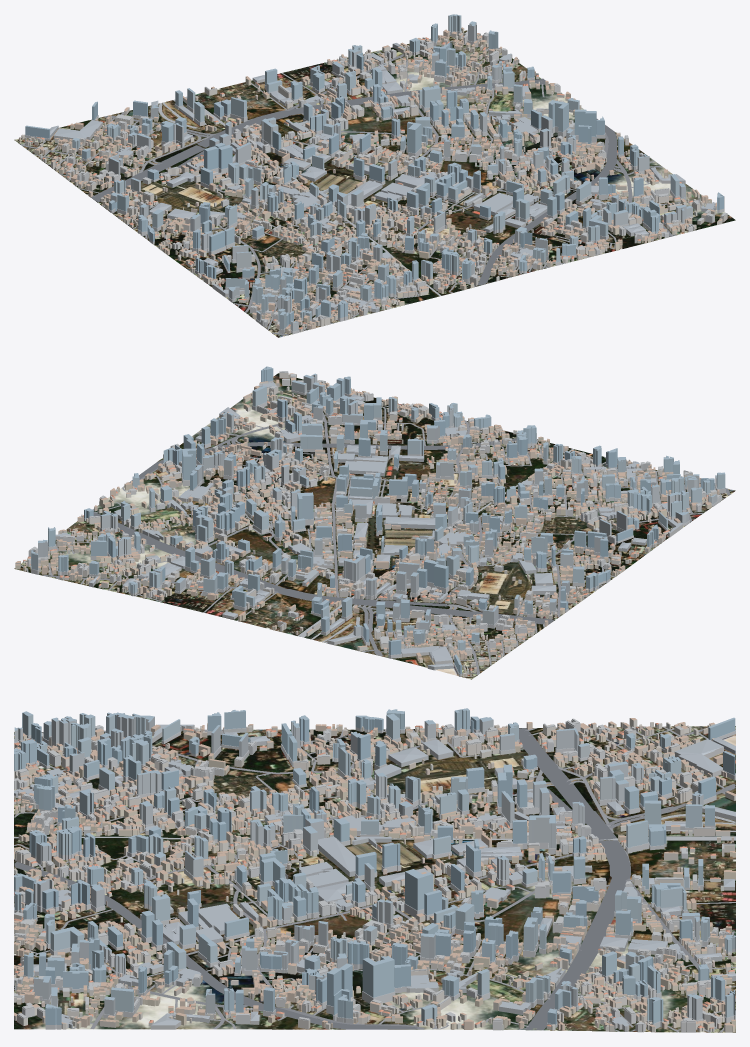
3 views of the same model, one above another, from view 1: azimuth 30°, elevation 25°; view 2: azimuth 150°, elevation 25°; view 3: azimuth 270°, elevation 25° (orthographic). The views are drawn at different scales.
Visible parts, largest first — view 1: BLDG_MODERN_TOWER, TERRAIN, BLDG_SHOPHOUSE, BLDG_APARTMENT, BLDG_INDUSTRIAL_PORT, ROAD_METRO, BLDG_TUBE_HOUSE, BLDG_VILLA; view 2: BLDG_MODERN_TOWER, TERRAIN, BLDG_SHOPHOUSE, BLDG_APARTMENT, BLDG_INDUSTRIAL_PORT, ROAD_METRO, BLDG_TUBE_HOUSE, BLDG_VILLA; view 3: BLDG_MODERN_TOWER, TERRAIN, BLDG_SHOPHOUSE, BLDG_APARTMENT, BLDG_INDUSTRIAL_PORT, ROAD_METRO, BLDG_TUBE_HOUSE, BLDG_VILLA.
Boxes of the visible parts, <box> form: BLDG_MODERN_TOWER: <box>25,14,724,334</box>; TERRAIN: <box>14,30,735,337</box>; BLDG_SHOPHOUSE: <box>25,27,722,333</box>; BLDG_APARTMENT: <box>43,30,727,327</box>; BLDG_INDUSTRIAL_PORT: <box>50,43,715,312</box>; ROAD_METRO: <box>20,33,706,335</box>; BLDG_TUBE_HOUSE: <box>19,32,722,334</box>; BLDG_VILLA: <box>29,33,693,331</box>; BLDG_MODERN_TOWER: <box>30,366,725,676</box>; TERRAIN: <box>14,373,735,679</box>; BLDG_SHOPHOUSE: <box>15,373,719,672</box>; BLDG_APARTMENT: <box>27,371,721,662</box>; BLDG_INDUSTRIAL_PORT: <box>55,382,682,670</box>; ROAD_METRO: <box>21,392,730,674</box>; BLDG_TUBE_HOUSE: <box>25,373,712,677</box>; BLDG_VILLA: <box>23,391,708,672</box>; BLDG_MODERN_TOWER: <box>14,708,735,1029</box>; TERRAIN: <box>14,726,735,1032</box>; BLDG_SHOPHOUSE: <box>14,718,735,1032</box>; BLDG_APARTMENT: <box>14,718,735,1032</box>; BLDG_INDUSTRIAL_PORT: <box>14,724,735,1031</box>; ROAD_METRO: <box>14,726,735,1032</box>; BLDG_TUBE_HOUSE: <box>14,722,735,1031</box>; BLDG_VILLA: <box>14,723,735,1032</box>.
Bounding box in the file's own units: 2000 × 147 × 2000.
Materials: 8 (1 with a texture image).
